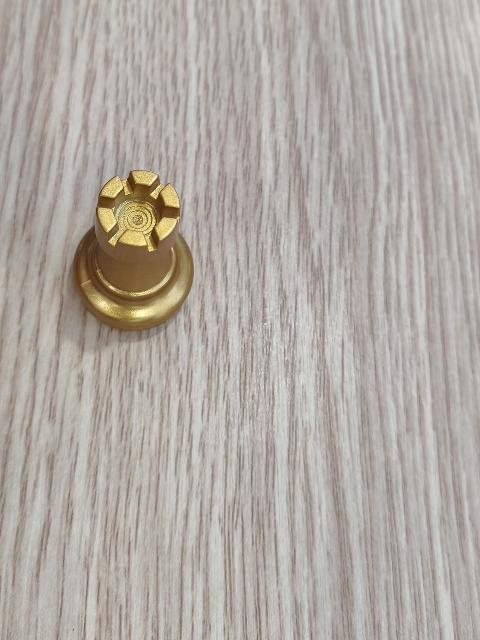black_rook: (74, 168, 193, 331)
